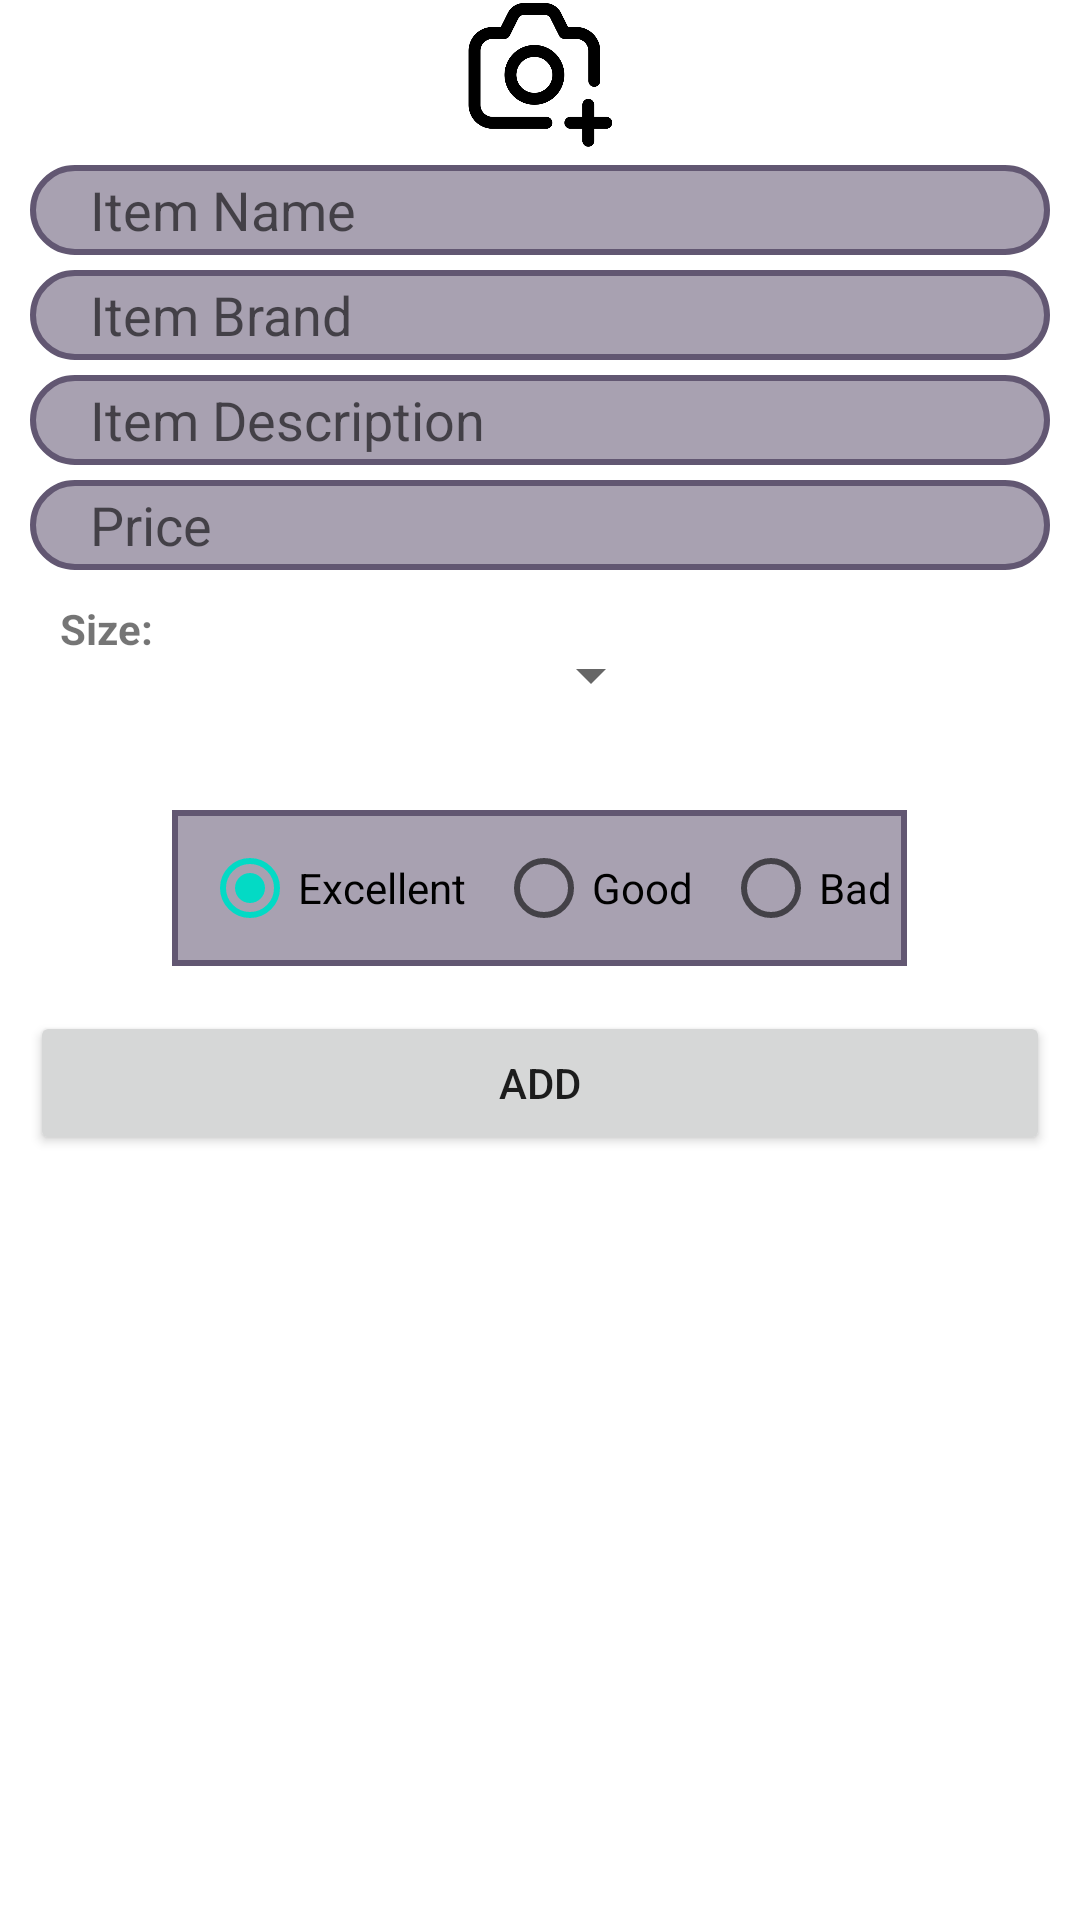

Icon bounding boxes for this 1080px x 1920px phone screenshot, format (x1, y1, x2, y2):
take photo: (468, 3, 612, 147)
